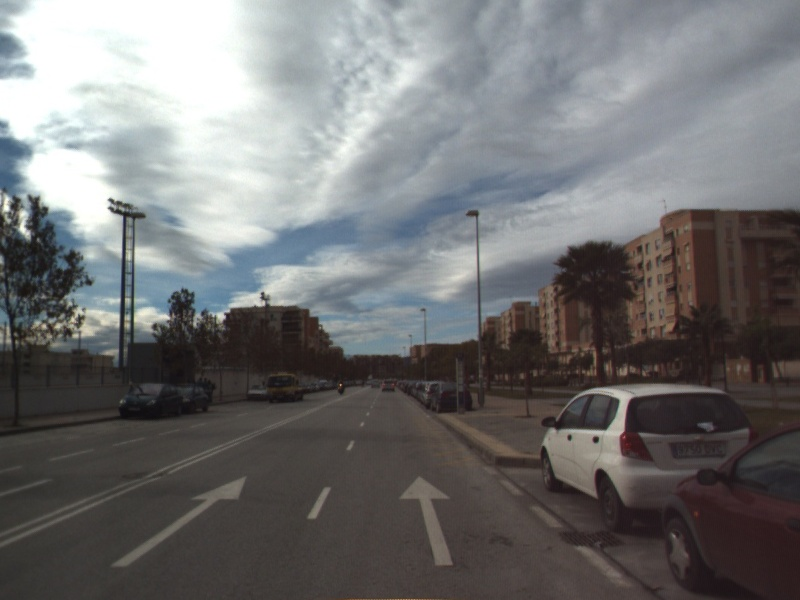STRAIGHT: (109, 474, 249, 569), (397, 474, 455, 567)
